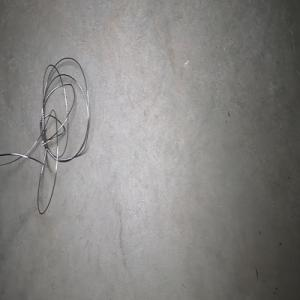Wire: (0, 57, 89, 214)
